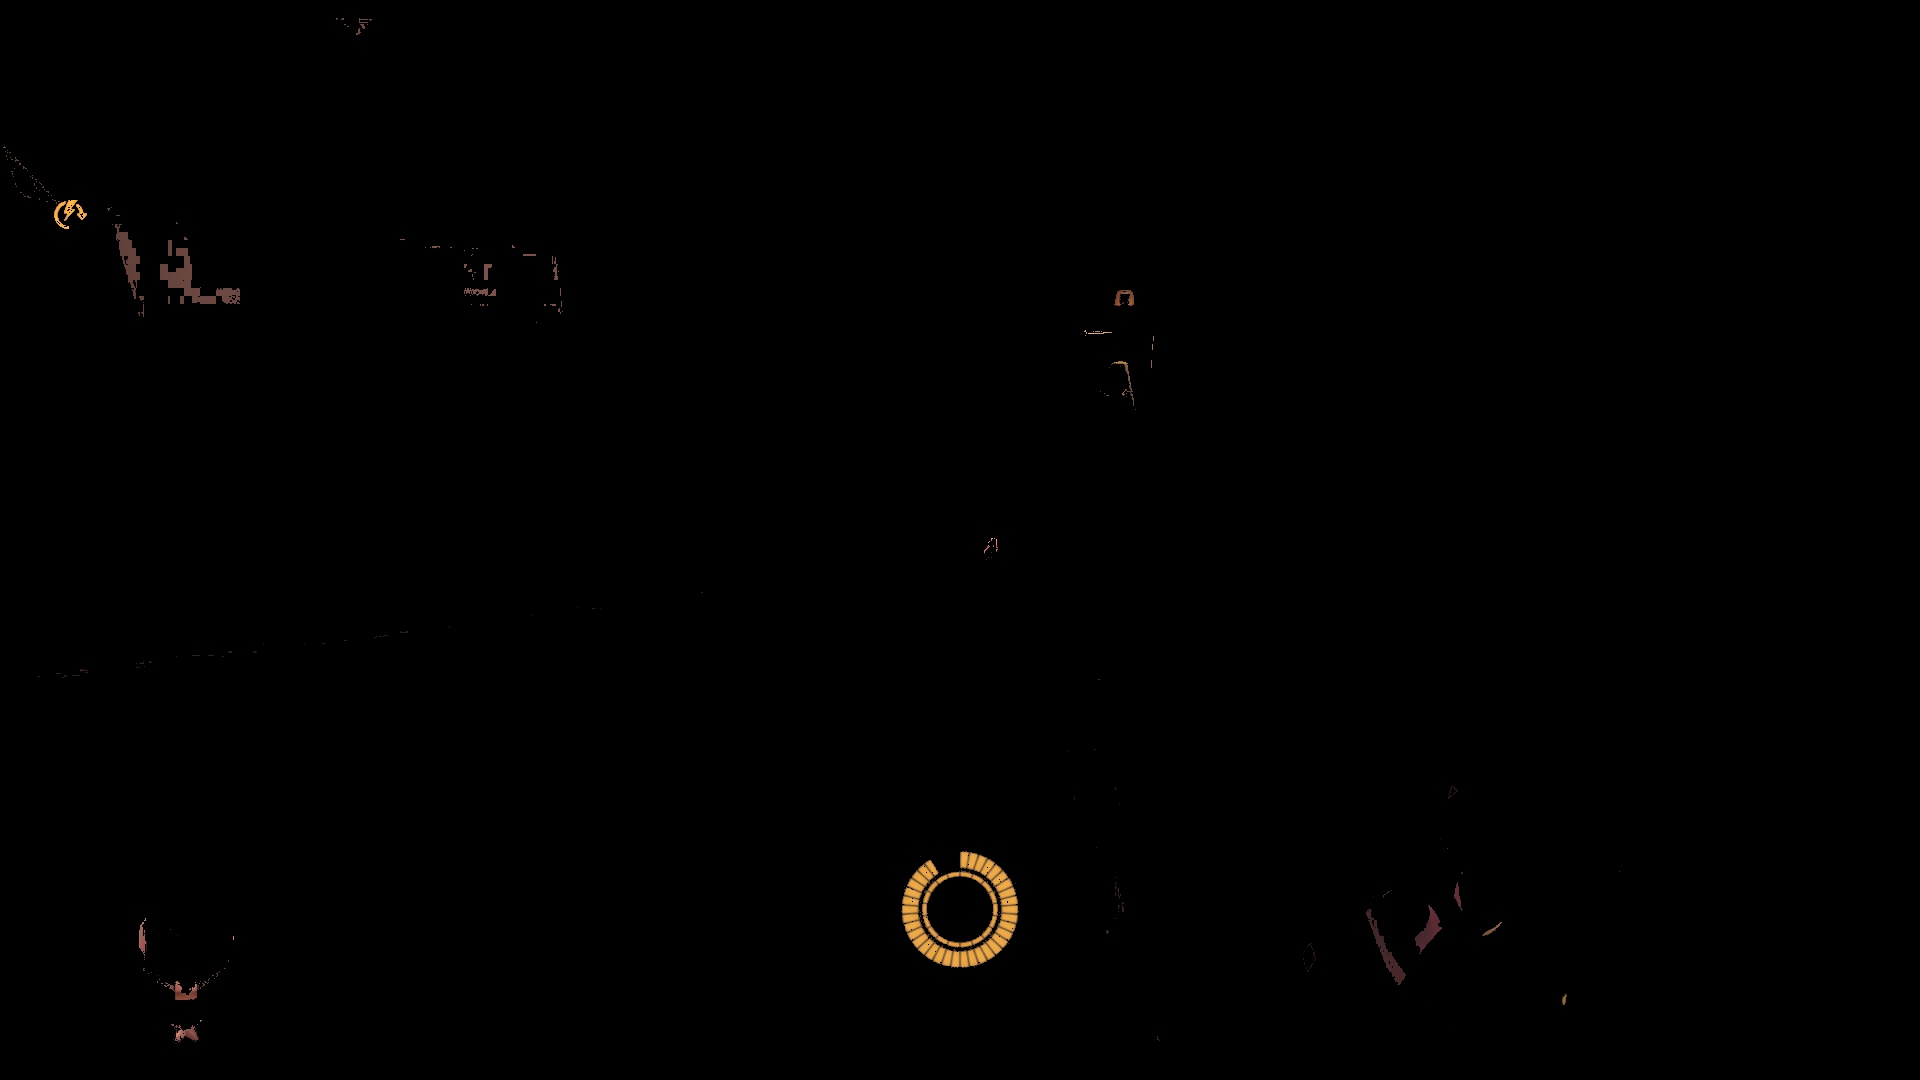widowmaker: (985, 538, 998, 553)
